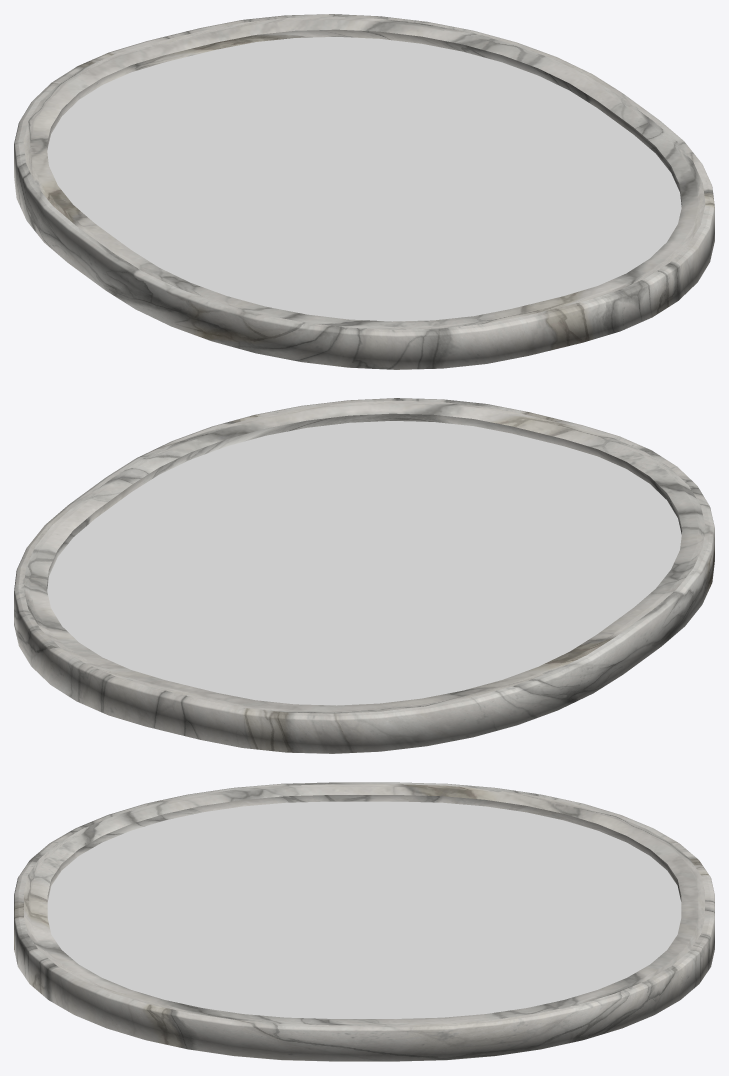
Rendered from Mirror 4.fbx.
3 views of the same model, one above another, from view 1: azimuth 30°, elevation 25°; view 2: azimuth 150°, elevation 25°; view 3: azimuth 270°, elevation 25° (orthographic). The views are drawn at different scales.
Visible parts, largest first — view 1: Plane, Cube; view 2: Plane, Cube; view 3: Plane, Cube.
Boxes of the visible parts, x1,y1,x2,y2 form: Plane: [47, 37, 681, 321]; Cube: [14, 14, 714, 369]; Plane: [47, 421, 681, 705]; Cube: [14, 398, 714, 753]; Plane: [47, 801, 681, 1018]; Cube: [14, 782, 714, 1061].
Size of the model in its own units: 326 by 23.51 by 389.
